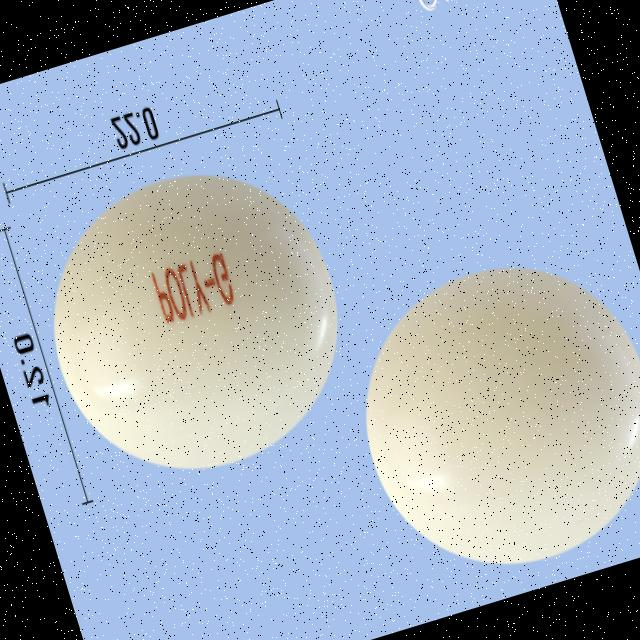Poly G Vaginal Soft Cap: (18, 142, 374, 506), (329, 233, 640, 600)
